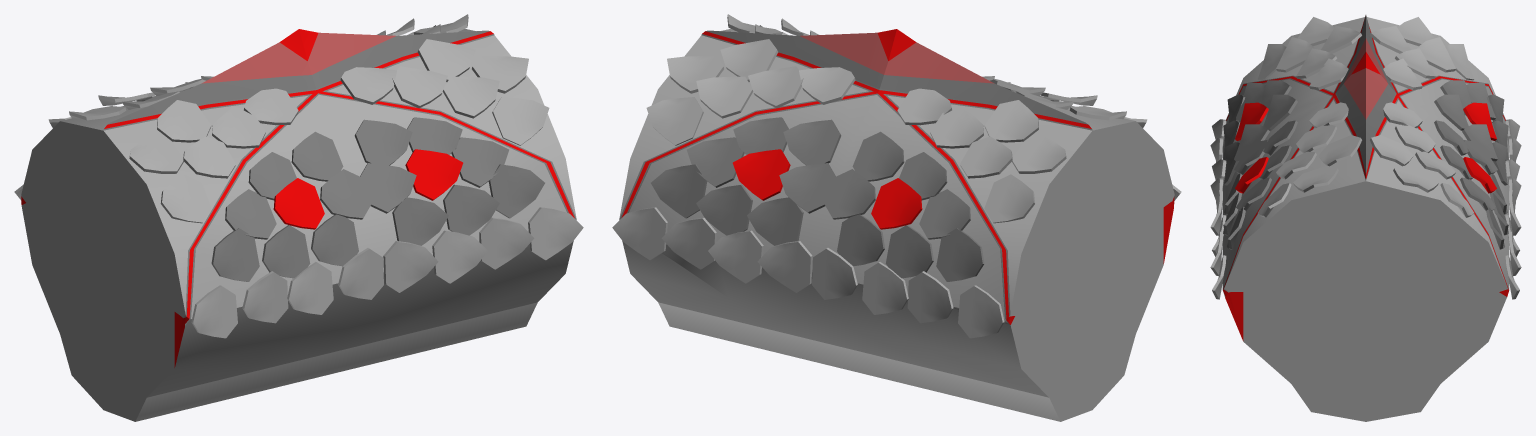
The model's file is Snake_mid.fbx.
3 views of the same model, side by side, from view 1: azimuth 30°, elevation 25°; view 2: azimuth 150°, elevation 25°; view 3: azimuth 270°, elevation 25° (orthographic). The views are drawn at different scales.
Parts seen in each view (by area): view 1: pCylinder7; view 2: pCylinder7; view 3: pCylinder7.
Part boxes in pixels (bbox=[...]): pCylinder7: bbox=[14, 14, 583, 421]; pCylinder7: bbox=[612, 14, 1181, 421]; pCylinder7: bbox=[1210, 15, 1521, 421].
Size of the model in its own units: 5.42 by 4.33 by 4.25.
